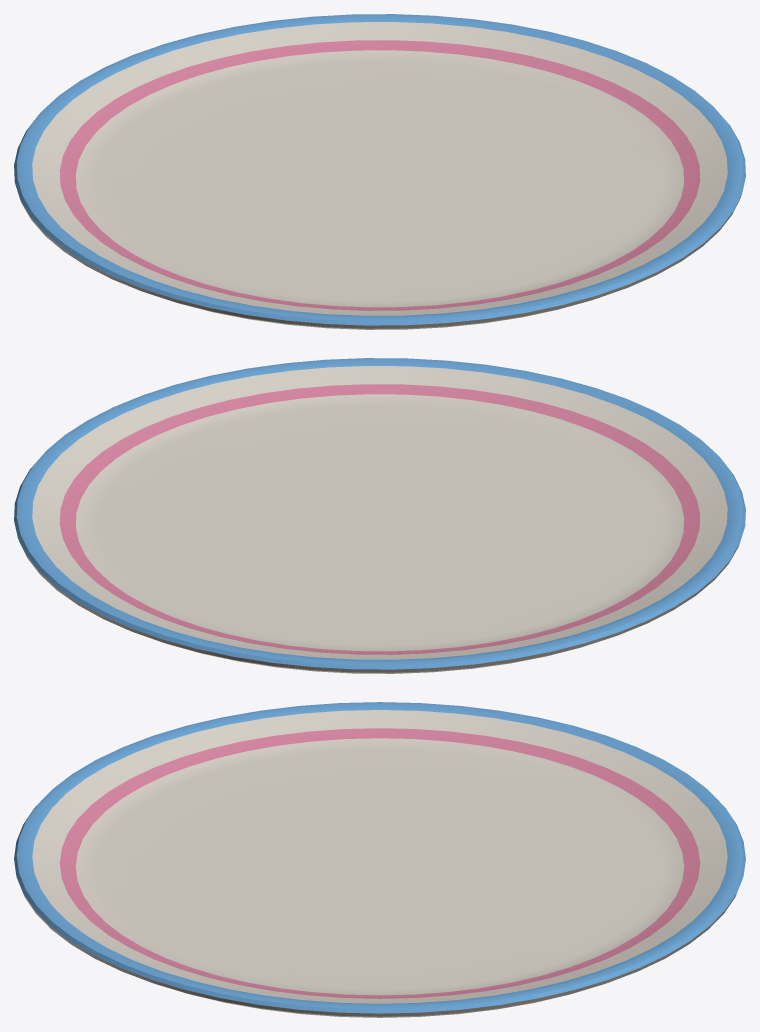
Rendered from plate_classic.glb.
The picture shows the model from 3 angles, top to bottom: view 1: azimuth 30°, elevation 25°; view 2: azimuth 150°, elevation 25°; view 3: azimuth 270°, elevation 25°; orthographic projection.
Visible parts, largest first — view 1: body; view 2: body; view 3: body.
Part boxes in pixels (x1=…): body: x1=14, y1=14, x2=745, y2=329; body: x1=14, y1=358, x2=745, y2=673; body: x1=14, y1=702, x2=745, y2=1017.
Size of the model in its own units: 1.6 by 0.0939 by 1.6.
